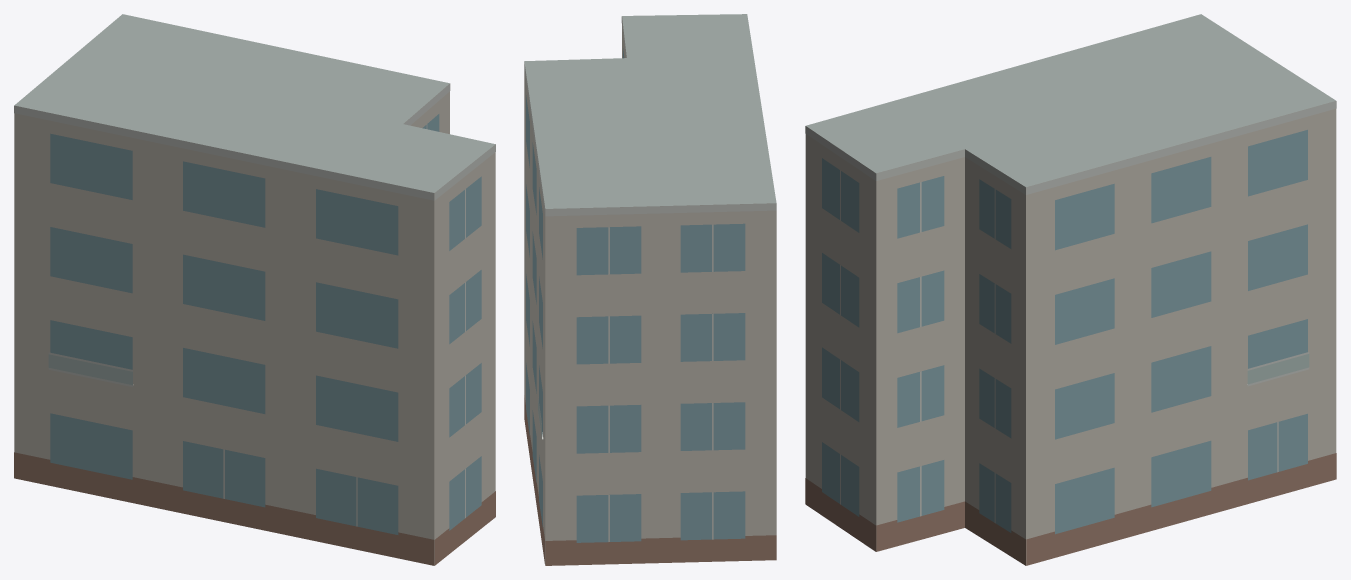
Rendered from survey-upis-32986018.glb.
The picture shows the model from 3 angles, left to right: view 1: azimuth 30°, elevation 25°; view 2: azimuth 150°, elevation 25°; view 3: azimuth 270°, elevation 25°; orthographic projection. The views are drawn at different scales.
Parts seen in each view (by area): view 1: survey-upis-32986018.tmp; view 2: survey-upis-32986018.tmp; view 3: survey-upis-32986018.tmp.
Part boxes in pixels (box(x1,y1,x2,y2)): survey-upis-32986018.tmp: box(14, 14, 495, 565); survey-upis-32986018.tmp: box(524, 14, 776, 565); survey-upis-32986018.tmp: box(805, 14, 1336, 565).
Size of the model in its own units: 11.59 by 11.8 by 15.01.
